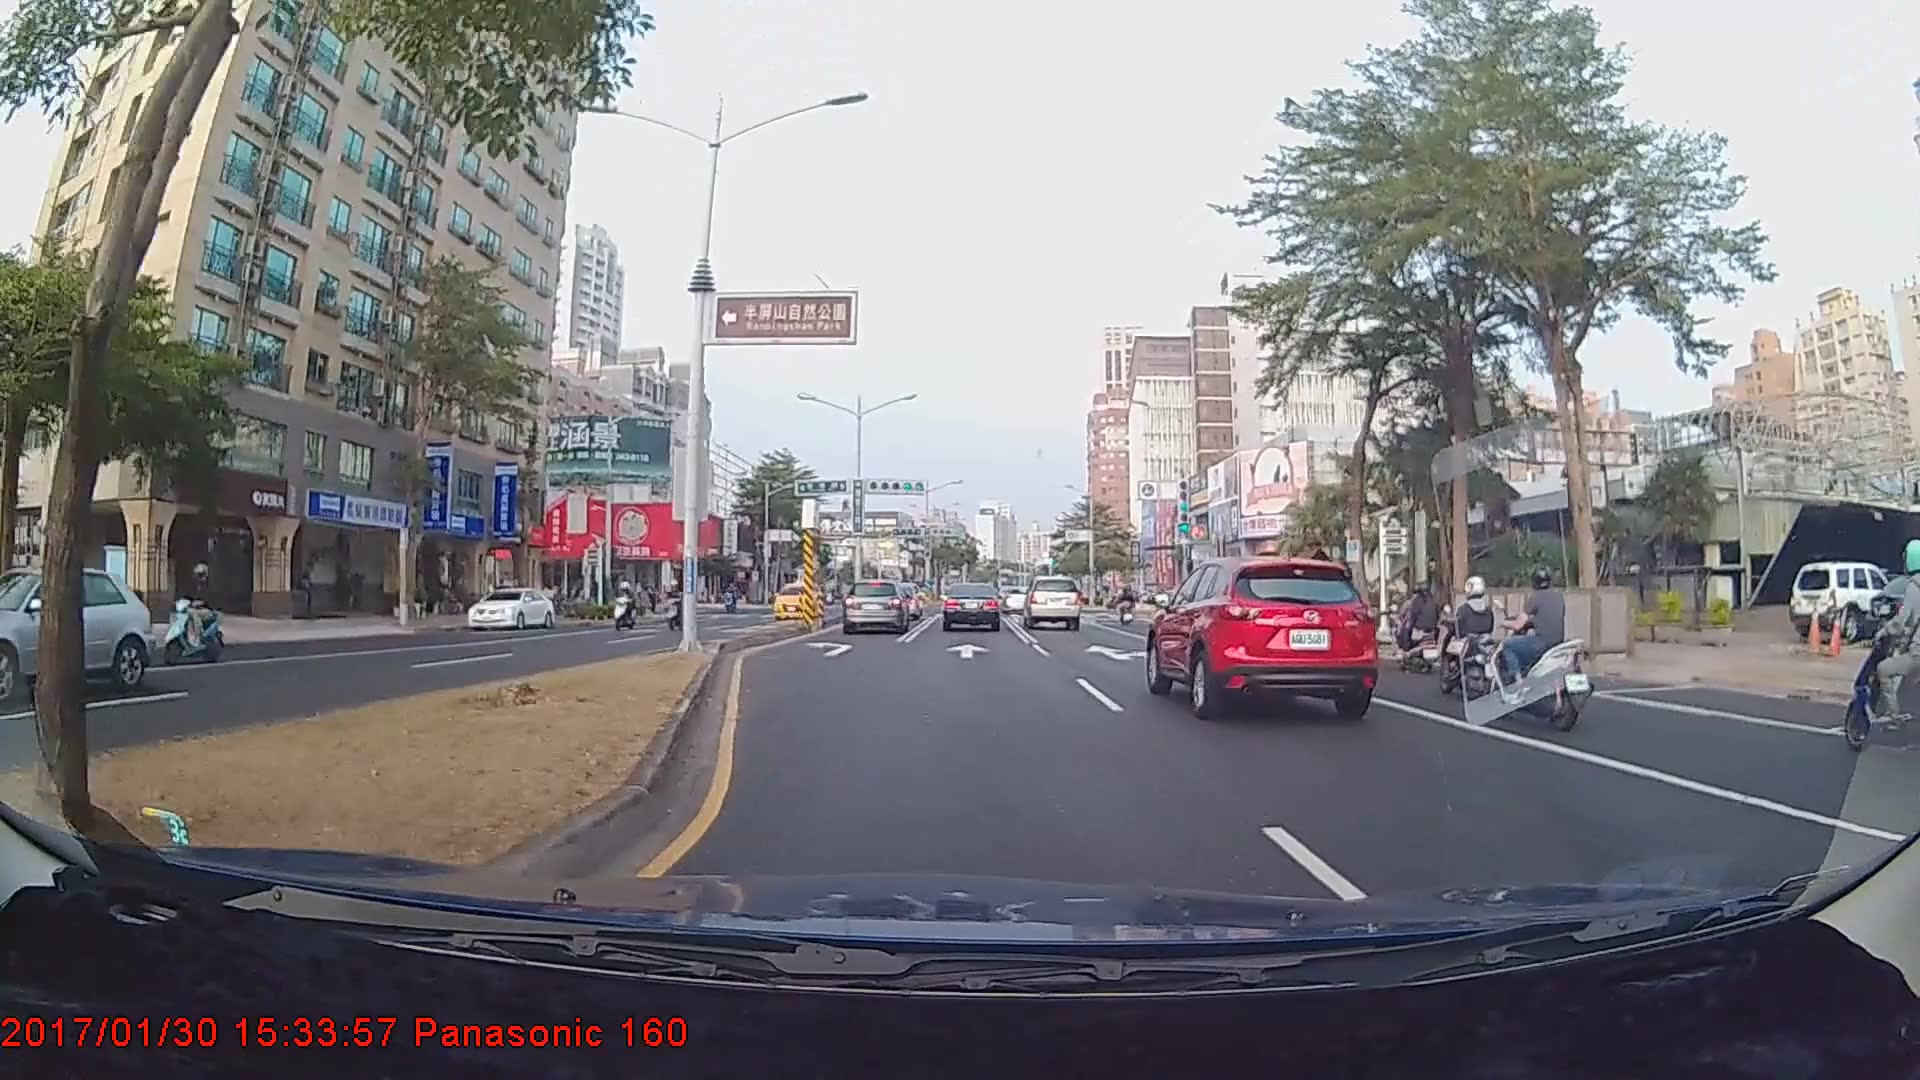rider: (1489, 565, 1600, 732), (1433, 569, 1509, 693), (161, 563, 232, 668), (1387, 576, 1447, 673), (605, 576, 643, 639)
vehicle: (1151, 551, 1379, 717), (0, 568, 150, 695), (1786, 563, 1897, 640), (466, 585, 555, 632), (841, 579, 910, 634), (1023, 574, 1082, 630), (941, 581, 1001, 633), (772, 582, 824, 618)
